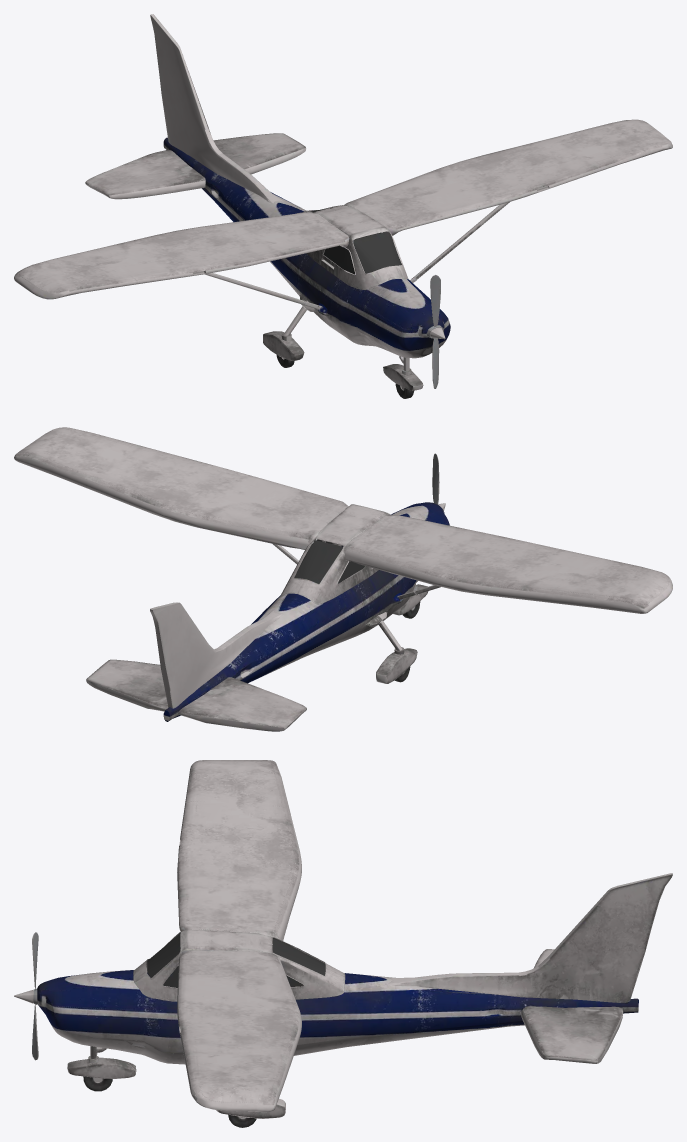
File: cessna-172.glb
The picture shows the model from 3 angles, top to bottom: view 1: azimuth 30°, elevation 25°; view 2: azimuth 150°, elevation 25°; view 3: azimuth 270°, elevation 25°; orthographic projection. The views are drawn at different scales.
Visible parts, largest first — view 1: cockpit_plane_0; view 2: cockpit_plane_0; view 3: cockpit_plane_0.
Part boxes in pixels (x1,y1,x2,y2): cockpit_plane_0: (14, 14, 672, 398); cockpit_plane_0: (14, 427, 672, 731); cockpit_plane_0: (14, 760, 672, 1127).
Size of the model in its own units: 10.31 by 3.08 by 8.28.
Materials: 1 (1 with a texture image).
